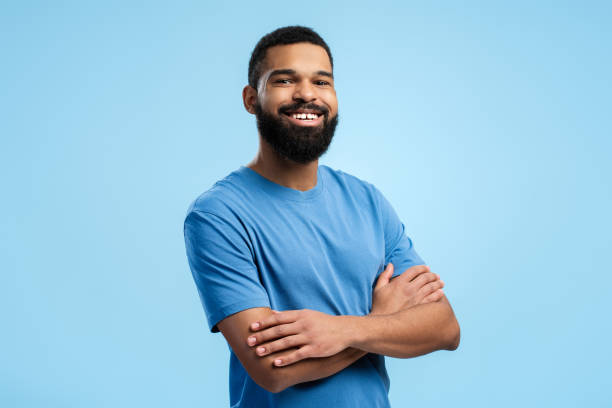Male: (184, 25, 468, 407)
